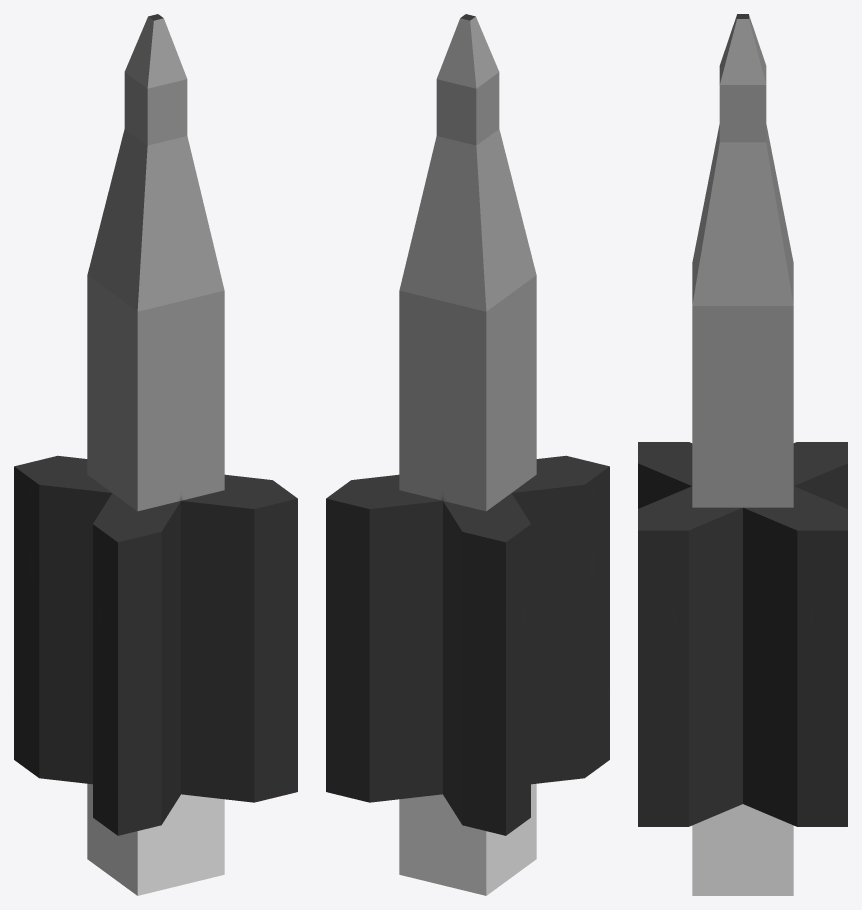
Rendered from BossBarrel.obj.
The picture shows the model from 3 angles, left to right: view 1: azimuth 30°, elevation 25°; view 2: azimuth 150°, elevation 25°; view 3: azimuth 270°, elevation 25°; orthographic projection.
Visible parts, largest first — view 1: Cube; view 2: Cube; view 3: Cube.
Part boxes in pixels (x1,y1,x2,y2): Cube: (14,14,297,895); Cube: (326,14,609,895); Cube: (638,14,847,895).
Bounding box in the file's own units: 4.14 × 18.67 × 4.14.
1 material, 1 textured.
